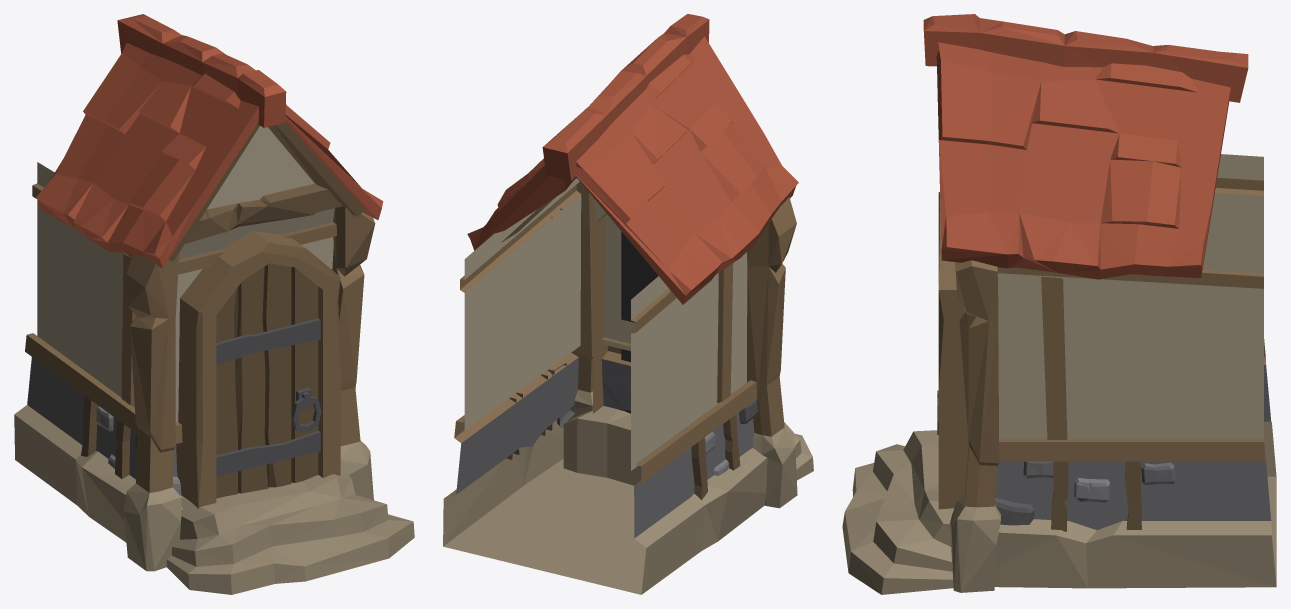
The model's file is SM_Bld_House_Door_03.gltf.
3 views of the same model, side by side, from view 1: azimuth 30°, elevation 25°; view 2: azimuth 150°, elevation 25°; view 3: azimuth 270°, elevation 25° (orthographic). The views are drawn at different scales.
Visible parts, largest first — view 1: SM_Bld_House_Door_03; view 2: SM_Bld_House_Door_03; view 3: SM_Bld_House_Door_03.
Part boxes in pixels (box(x1,y1,x2,y2)): SM_Bld_House_Door_03: box(14, 14, 414, 594); SM_Bld_House_Door_03: box(443, 14, 813, 594); SM_Bld_House_Door_03: box(842, 14, 1276, 594).
Bounding box in the file's own units: 2.14 × 3.94 × 3.03.
Materials: 1 (1 with a texture image).
